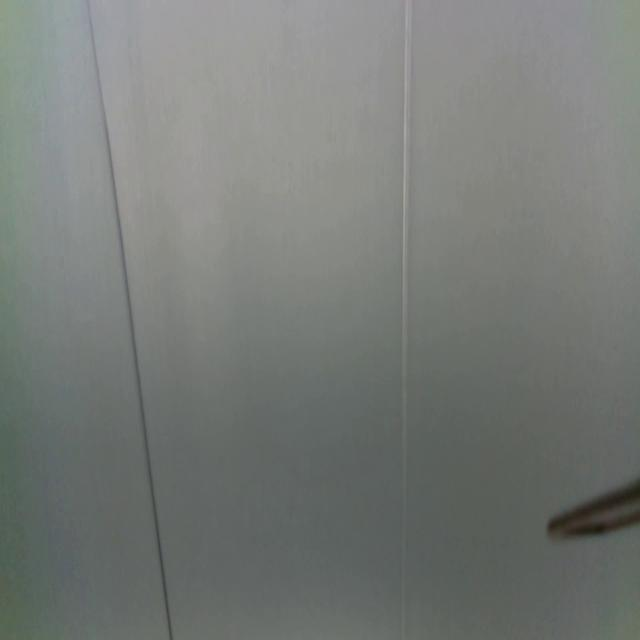crease: (82, 0, 172, 640), (399, 0, 413, 639)
